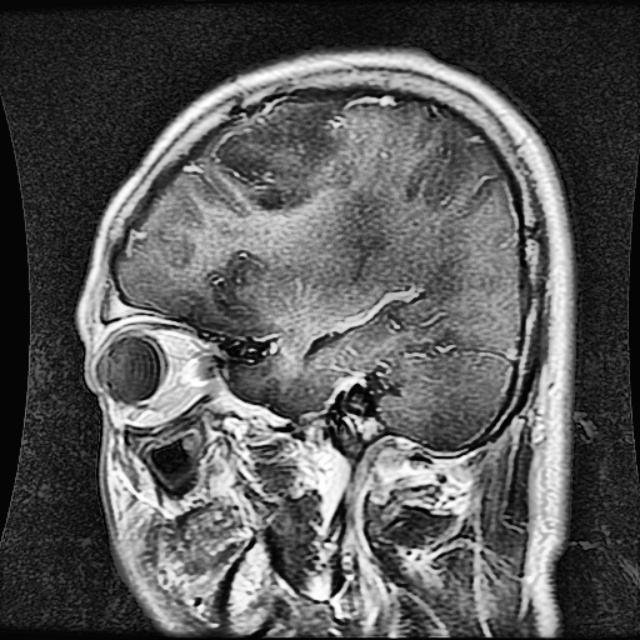Meningioma: (209, 102, 355, 210)
